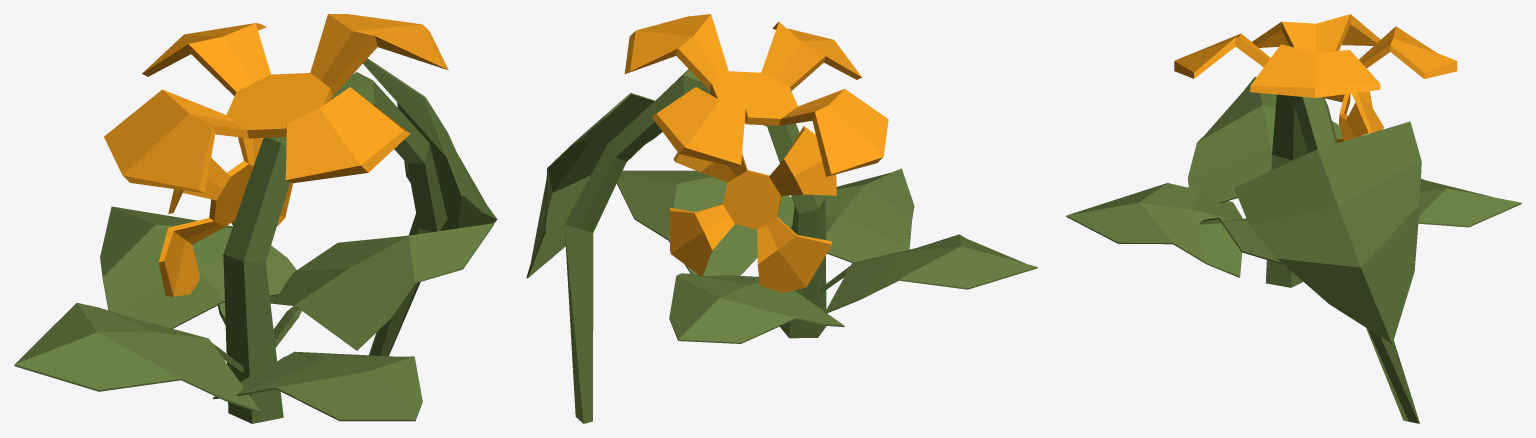
Rendered from PumpkinPlant_Stage02.fbx.
3 renders of one model, left to right at view 1: azimuth 30°, elevation 25°; view 2: azimuth 150°, elevation 25°; view 3: azimuth 270°, elevation 25°, orthographic. The views are drawn at different scales.
Parts seen in each view (by area): view 1: PumpkinPlant_Stage02; view 2: PumpkinPlant_Stage02; view 3: PumpkinPlant_Stage02.
Part boxes in pixels (x1,y1,x2,y2): PumpkinPlant_Stage02: (14, 14, 497, 423); PumpkinPlant_Stage02: (526, 14, 1037, 423); PumpkinPlant_Stage02: (1066, 14, 1521, 423).
Size of the model in its own units: 449 by 362 by 422.
